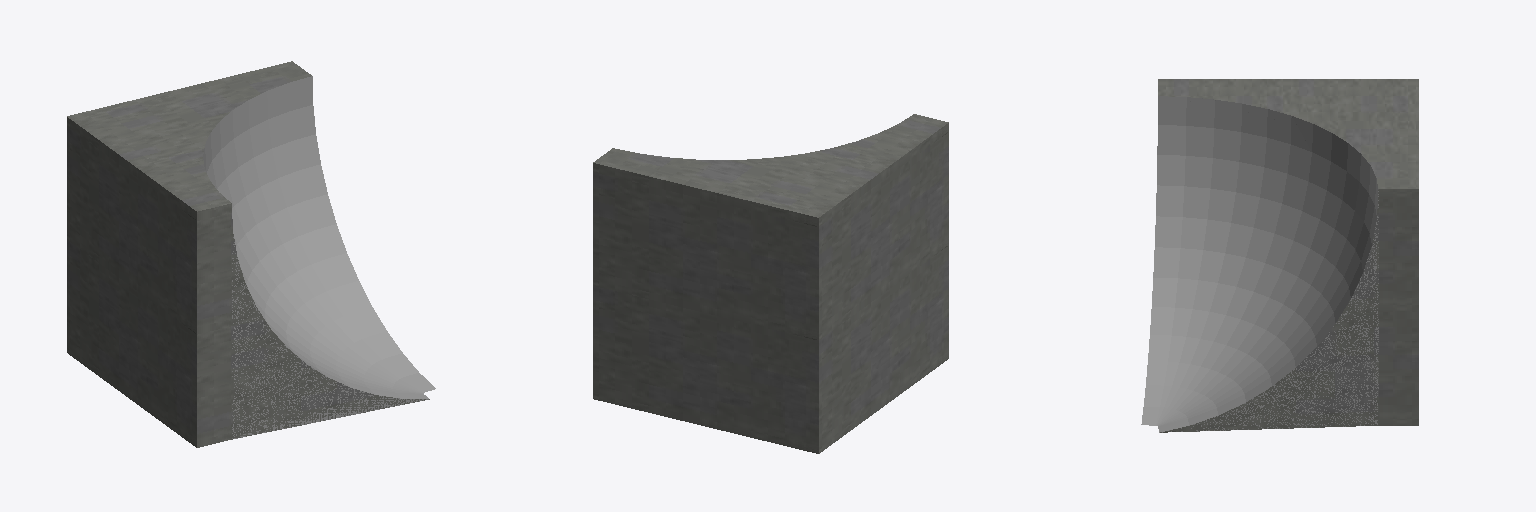
The picture shows the model from 3 angles: view 1: azimuth 30°, elevation 25°; view 2: azimuth 150°, elevation 25°; view 3: azimuth 270°, elevation 25°; orthographic projection.
Bounding box in the file's own units: 10.63 × 10 × 10.64.
3 materials, 1 textured.